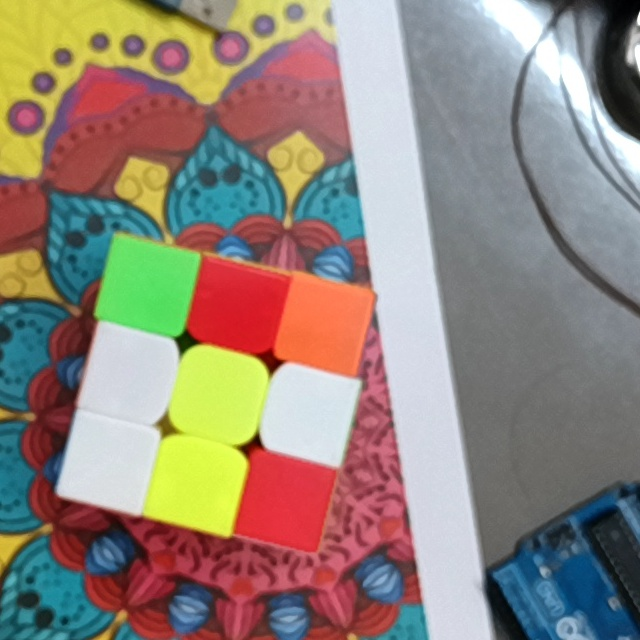tile: (184, 360, 251, 429), (113, 253, 182, 319), (202, 274, 270, 340), (276, 377, 342, 442), (253, 470, 322, 532), (293, 291, 358, 356), (165, 450, 231, 514), (98, 342, 162, 407), (77, 433, 144, 495)
